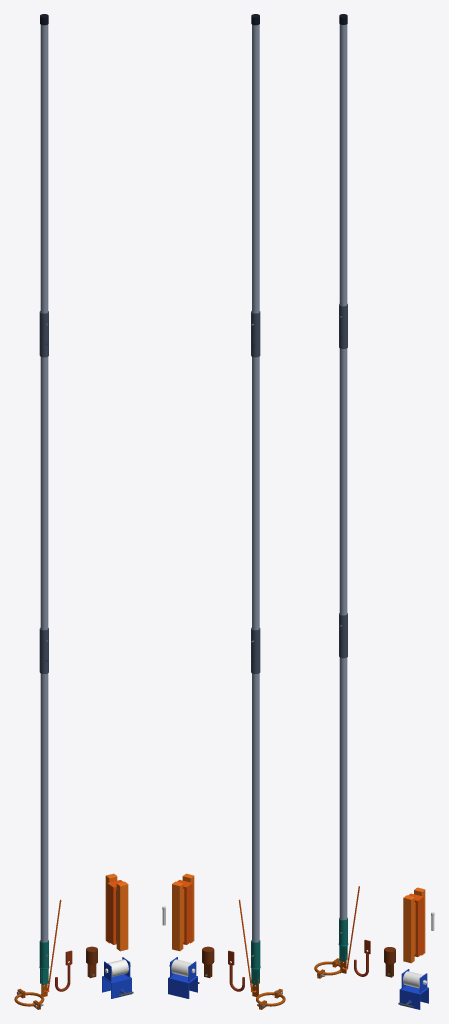
3 renders of one model, left to right at view 1: azimuth 30°, elevation 25°; view 2: azimuth 150°, elevation 25°; view 3: azimuth 330°, elevation 25°, orthographic. The views are drawn at different scales.
Visible parts, largest first — view 1: Pole section 3, 32 x 2 aluminium tube, Pole section 2, 32 x 2 aluminium tube, Pole section 1, 32 x 2 aluminium tube, Float winder, closed-cell foam, Tether cord, wound on the float winder, Crutch saddle, 4 mm plate bent to a U, Joint sleeve 2, 38 x 2.8 aluminium tube, Joint sleeve 1, 38 x 2.8 aluminium tube; view 2: Pole section 3, 32 x 2 aluminium tube, Pole section 2, 32 x 2 aluminium tube, Pole section 1, 32 x 2 aluminium tube, Float winder, closed-cell foam, Tether cord, wound on the float winder, Crutch saddle, 4 mm plate bent to a U, Joint sleeve 2, 38 x 2.8 aluminium tube, Joint sleeve 1, 38 x 2.8 aluminium tube; view 3: Pole section 3, 32 x 2 aluminium tube, Pole section 2, 32 x 2 aluminium tube, Pole section 1, 32 x 2 aluminium tube, Float winder, closed-cell foam, Tether cord, wound on the float winder, Crutch saddle, 4 mm plate bent to a U, Joint sleeve 1, 38 x 2.8 aluminium tube, Joint sleeve 2, 38 x 2.8 aluminium tube.
Boxes of the visible parts, x1,y1,x2,y2 form: Pole section 3, 32 x 2 aluminium tube: [40, 24, 48, 313]; Pole section 2, 32 x 2 aluminium tube: [40, 357, 48, 630]; Pole section 1, 32 x 2 aluminium tube: [40, 673, 48, 942]; Float winder, closed-cell foam: [105, 873, 128, 951]; Tether cord, wound on the float winder: [107, 880, 122, 944]; Crutch saddle, 4 mm plate bent to a U: [102, 974, 131, 998]; Joint sleeve 2, 38 x 2.8 aluminium tube: [39, 311, 48, 357]; Joint sleeve 1, 38 x 2.8 aluminium tube: [39, 627, 48, 673]; Pole section 3, 32 x 2 aluminium tube: [252, 24, 259, 313]; Pole section 2, 32 x 2 aluminium tube: [252, 356, 259, 630]; Pole section 1, 32 x 2 aluminium tube: [252, 673, 259, 942]; Float winder, closed-cell foam: [172, 873, 194, 951]; Tether cord, wound on the float winder: [177, 880, 192, 944]; Crutch saddle, 4 mm plate bent to a U: [168, 974, 197, 998]; Joint sleeve 2, 38 x 2.8 aluminium tube: [251, 311, 260, 357]; Joint sleeve 1, 38 x 2.8 aluminium tube: [251, 627, 260, 673]; Pole section 3, 32 x 2 aluminium tube: [339, 24, 347, 306]; Pole section 2, 32 x 2 aluminium tube: [339, 348, 347, 615]; Pole section 1, 32 x 2 aluminium tube: [339, 657, 347, 919]; Float winder, closed-cell foam: [403, 887, 425, 963]; Tether cord, wound on the float winder: [408, 893, 423, 956]; Crutch saddle, 4 mm plate bent to a U: [399, 985, 428, 1009]; Joint sleeve 1, 38 x 2.8 aluminium tube: [339, 613, 347, 658]; Joint sleeve 2, 38 x 2.8 aluminium tube: [339, 304, 347, 348].
Size of the model in its own units: 0.546 by 4.56 by 0.172.
